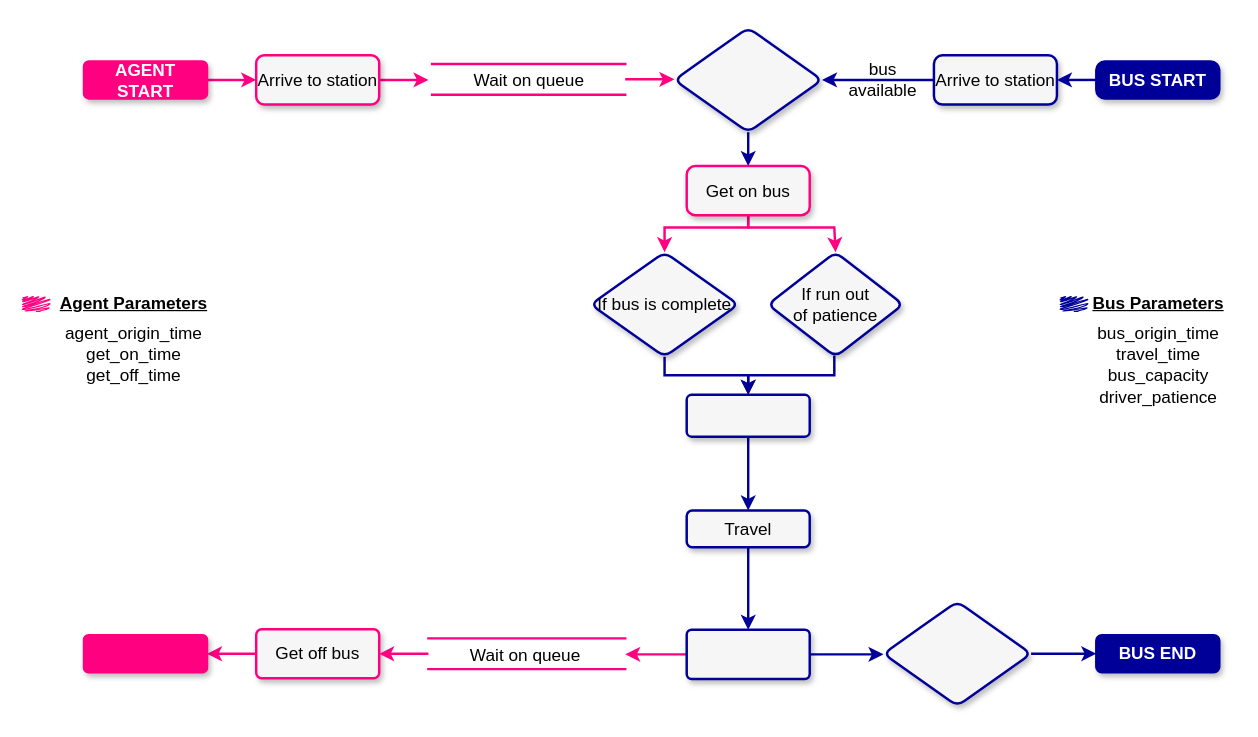
Some shapes in this 1258 by 737 pixel diagram are drawn without their labels. Each missing label, with the centre of its shape:
AGENT END: point (146, 655)
Bus departed: point (749, 417)
Bus reached destination: point (749, 655)
If bus is available: point (749, 81)
If bus is empty: point (958, 655)
